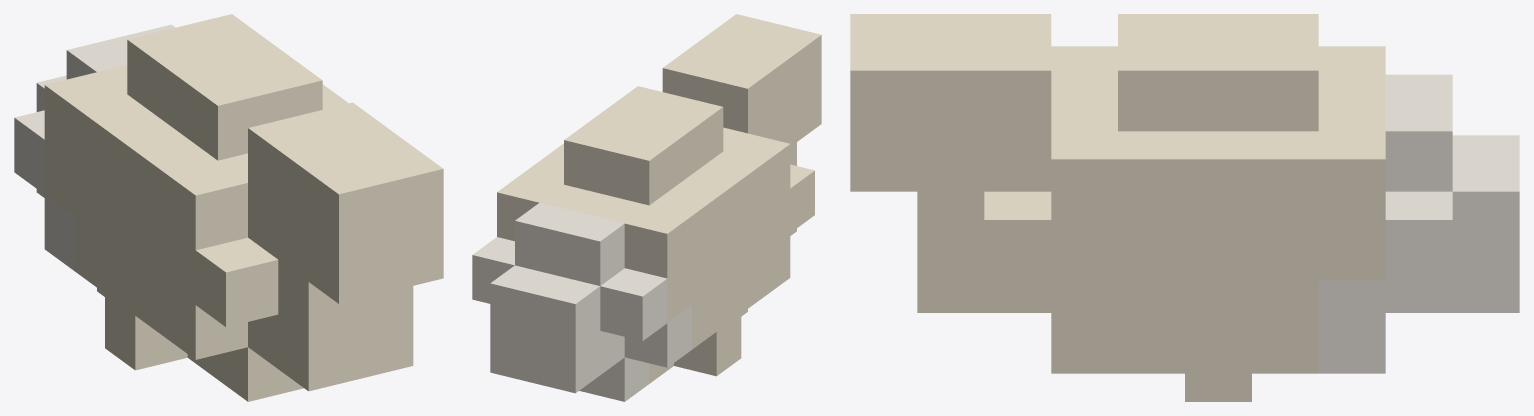
The model's file is arctic_fox__tail.glb.
3 renders of one model, left to right at view 1: azimuth 30°, elevation 25°; view 2: azimuth 150°, elevation 25°; view 3: azimuth 270°, elevation 25°, orthographic. The views are drawn at different scales.
Parts seen in each view (by area): view 1: arctic_fox__tail; view 2: arctic_fox__tail; view 3: arctic_fox__tail.
Part boxes in pixels (box(x1,y1,x2,y2)): arctic_fox__tail: box(14, 14, 443, 401); arctic_fox__tail: box(472, 14, 821, 401); arctic_fox__tail: box(850, 14, 1519, 401).
Bounding box in the file's own units: 0.4 × 0.5 × 1.
1 material, 1 textured.
